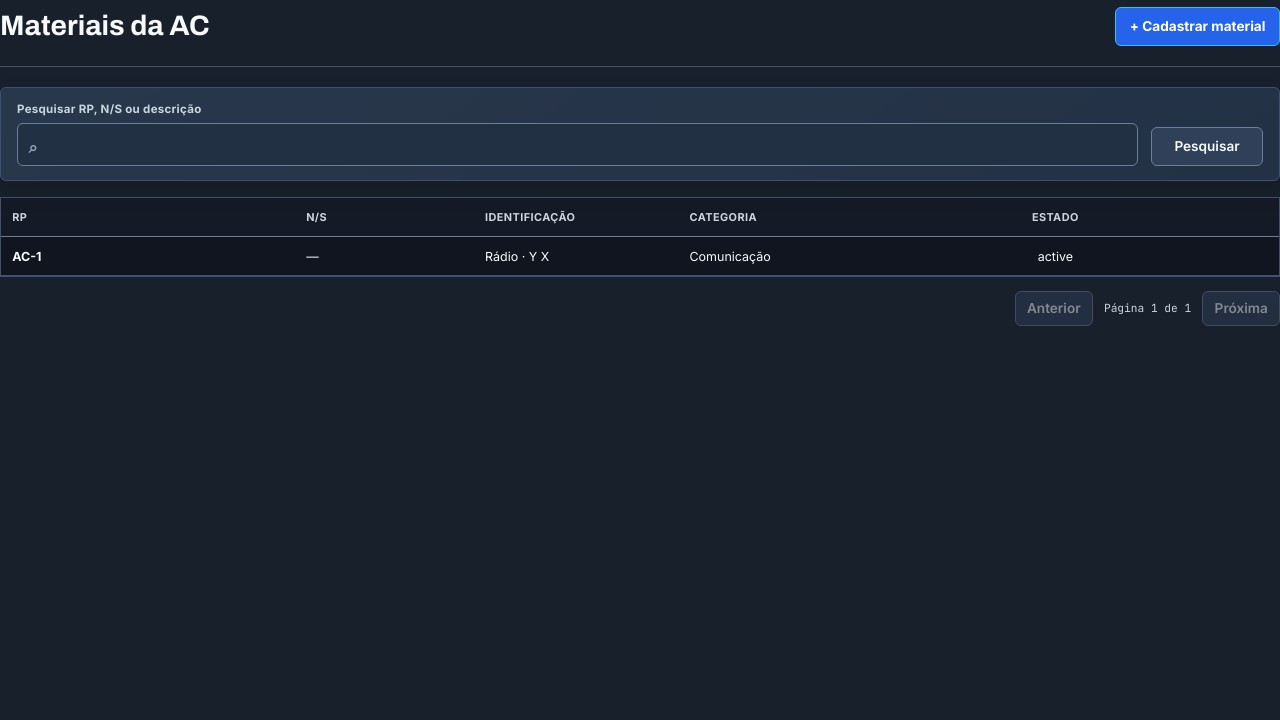
AcMaterialsPage › apresenta o cadastro AC em seções com campos em português e ações claras
The width and height of the screenshot is (1280, 720).
Click the button "+ Cadastrar material".
click(1198, 26)  # box [1115,7,1279,46]
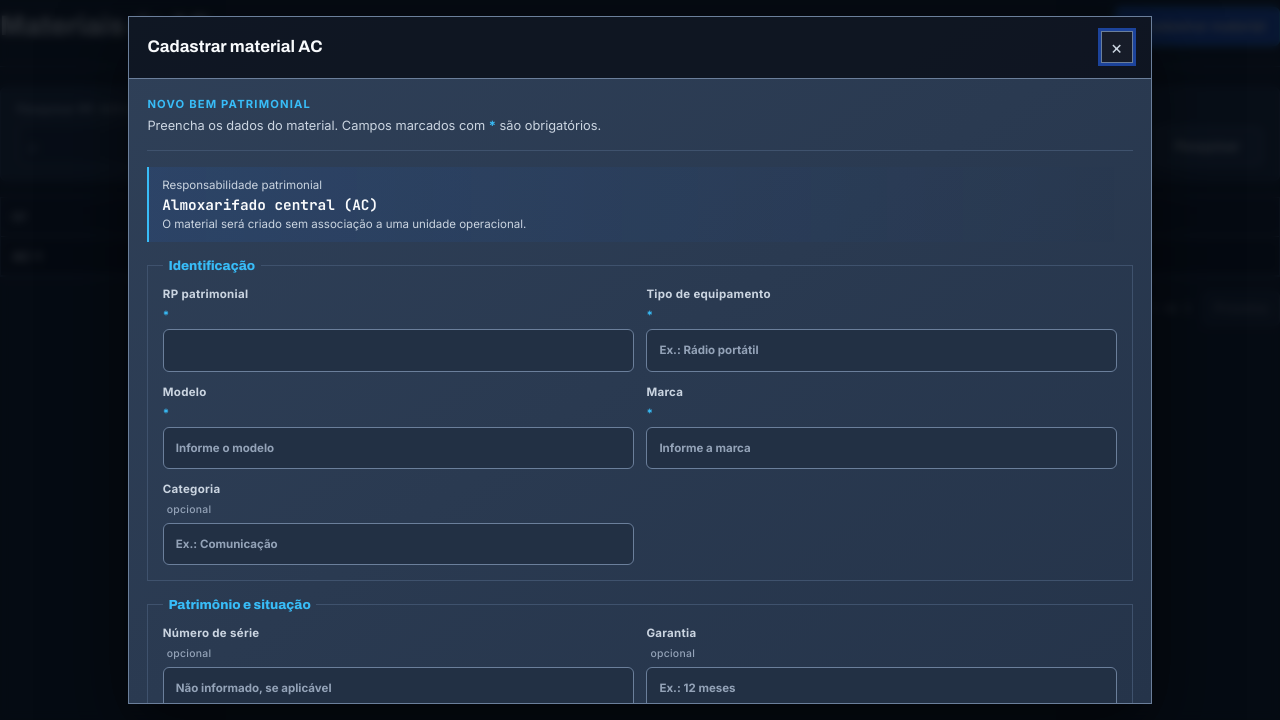
Expected: the element "Identificação" is shown, [147,258,1133,581]
Expected: the text "O material será criado sem associação a uma unidade operacional." is shown, [162,217,526,231]
